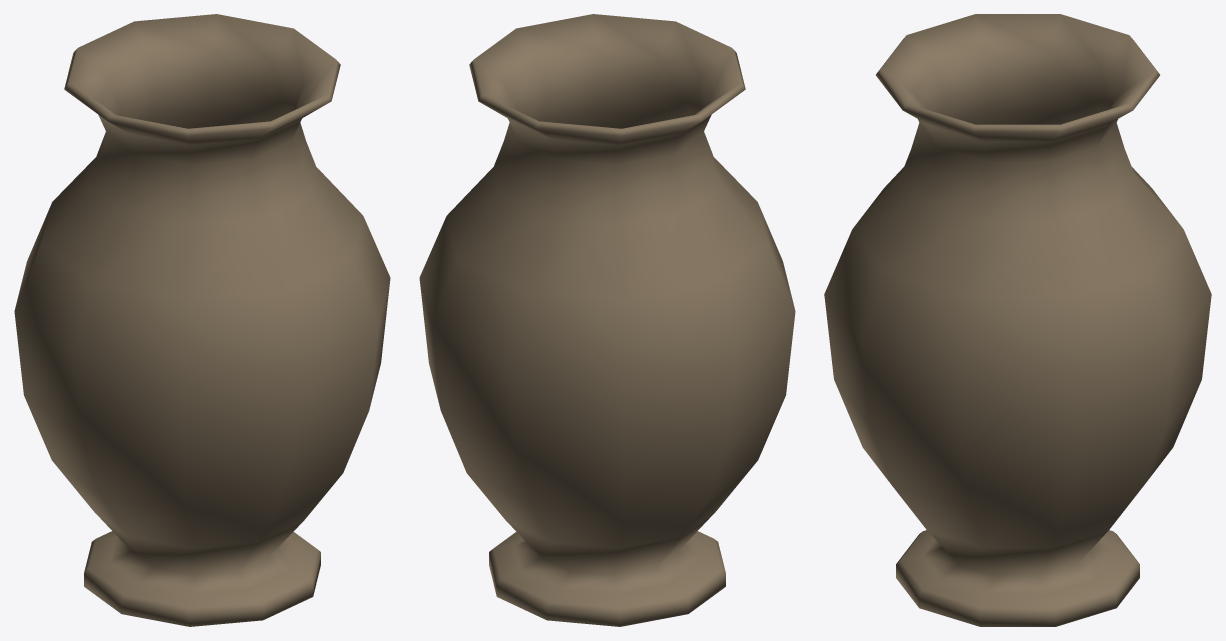
File: Vase.fbx
3 renders of one model, left to right at view 1: azimuth 30°, elevation 25°; view 2: azimuth 150°, elevation 25°; view 3: azimuth 270°, elevation 25°, orthographic.
Parts seen in each view (by area): view 1: Vase; view 2: Vase; view 3: Vase.
Part boxes in pixels (<box>): Vase: <box>14,14,390,626</box>; Vase: <box>419,14,795,626</box>; Vase: <box>824,14,1211,626</box>.
Bounding box in the file's own units: 138 × 211 × 145.
